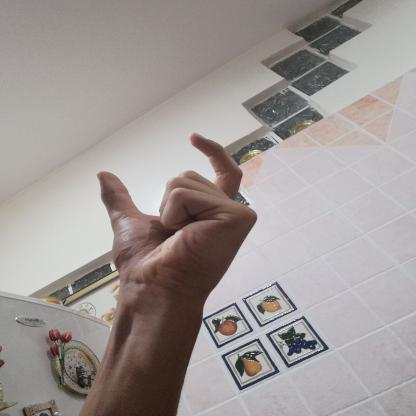NOON: (77, 121, 278, 316)
